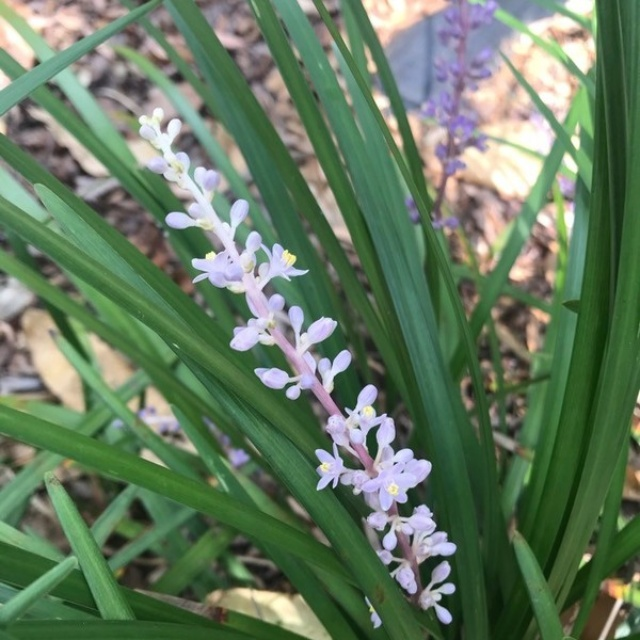obstacle: (85, 76, 590, 604)
